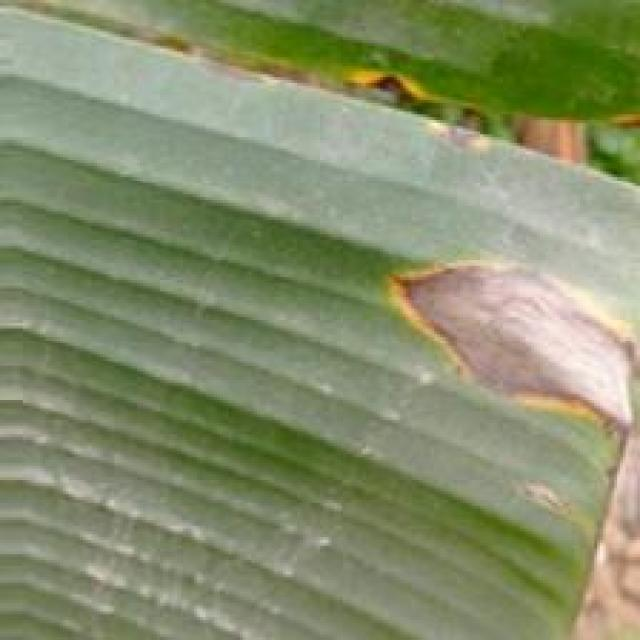Bacterial_spot: (378, 237, 640, 445), (511, 472, 588, 538)
